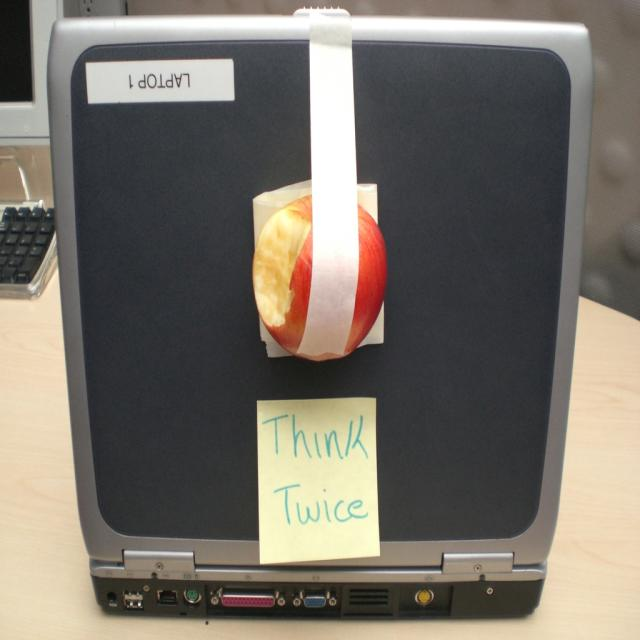Healty Apple: (252, 194, 388, 363)
